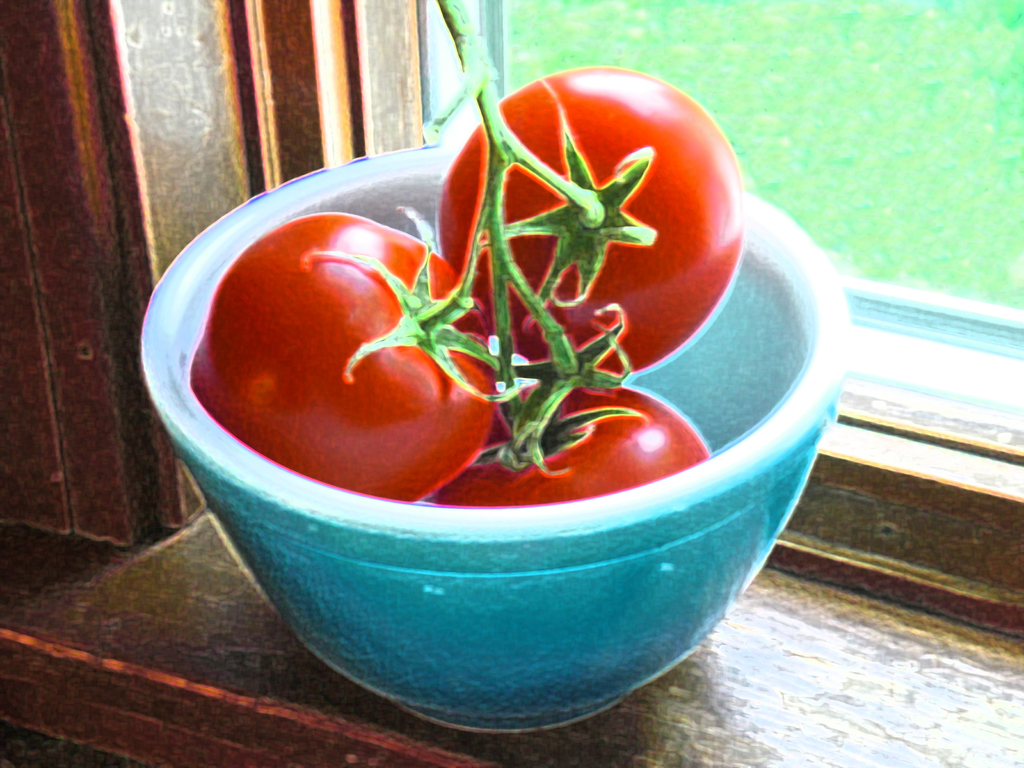Tomato: (427, 66, 752, 368), (187, 208, 513, 502), (434, 373, 713, 498)
